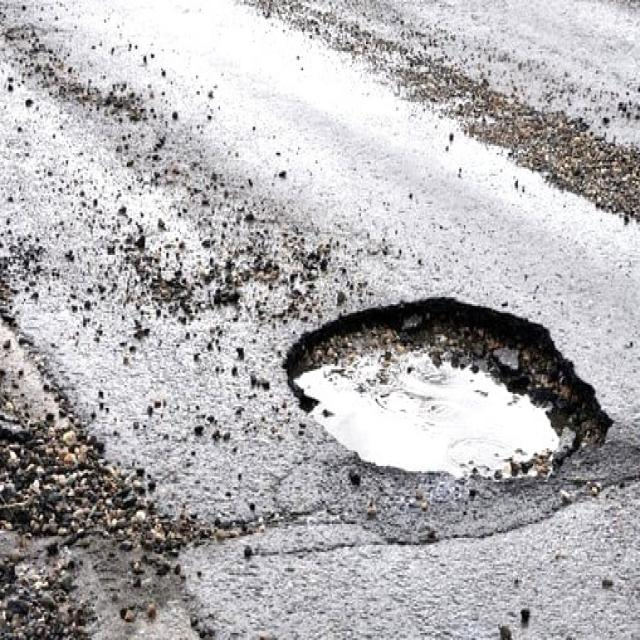road-pothole: (292, 298, 616, 485)
